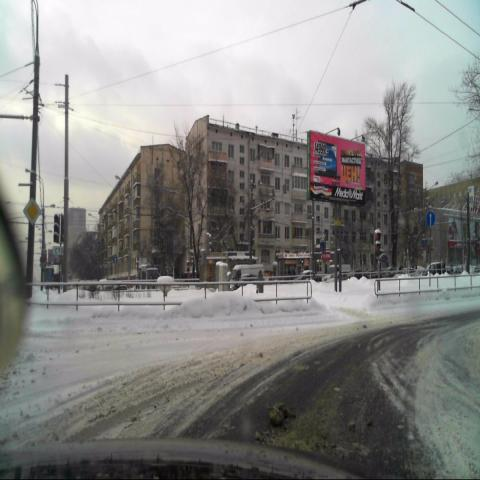2_1: (23, 196, 40, 224)
